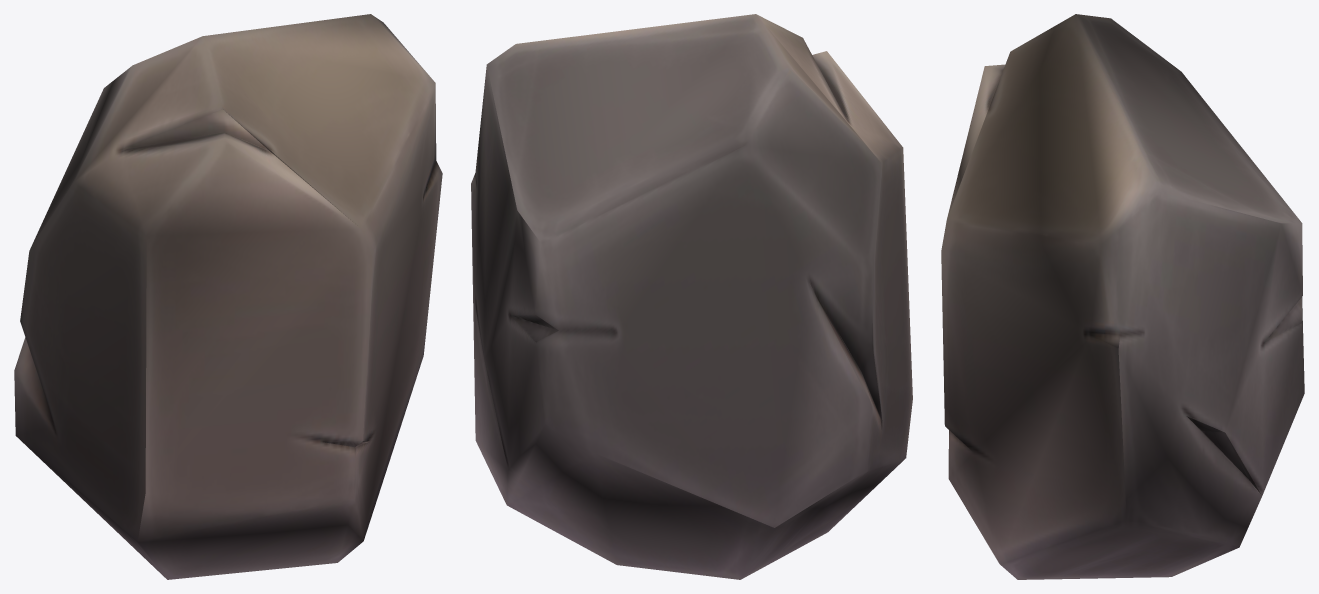
The model's file is Final rock3.fbx.
3 views of the same model, side by side, from view 1: azimuth 30°, elevation 25°; view 2: azimuth 150°, elevation 25°; view 3: azimuth 270°, elevation 25° (orthographic). The views are drawn at different scales.
Parts seen in each view (by area): view 1: Rocks3_LOD0; view 2: Rocks3_LOD0; view 3: Rocks3_LOD0.
Boxes of the visible parts, x1,y1,x2,y2 form: Rocks3_LOD0: [14, 14, 442, 579]; Rocks3_LOD0: [471, 14, 912, 579]; Rocks3_LOD0: [941, 14, 1304, 579].
Size of what is drawn, in the model's own units: 1.87 by 2.31 by 1.46.
Materials: 1 (1 with a texture image).
